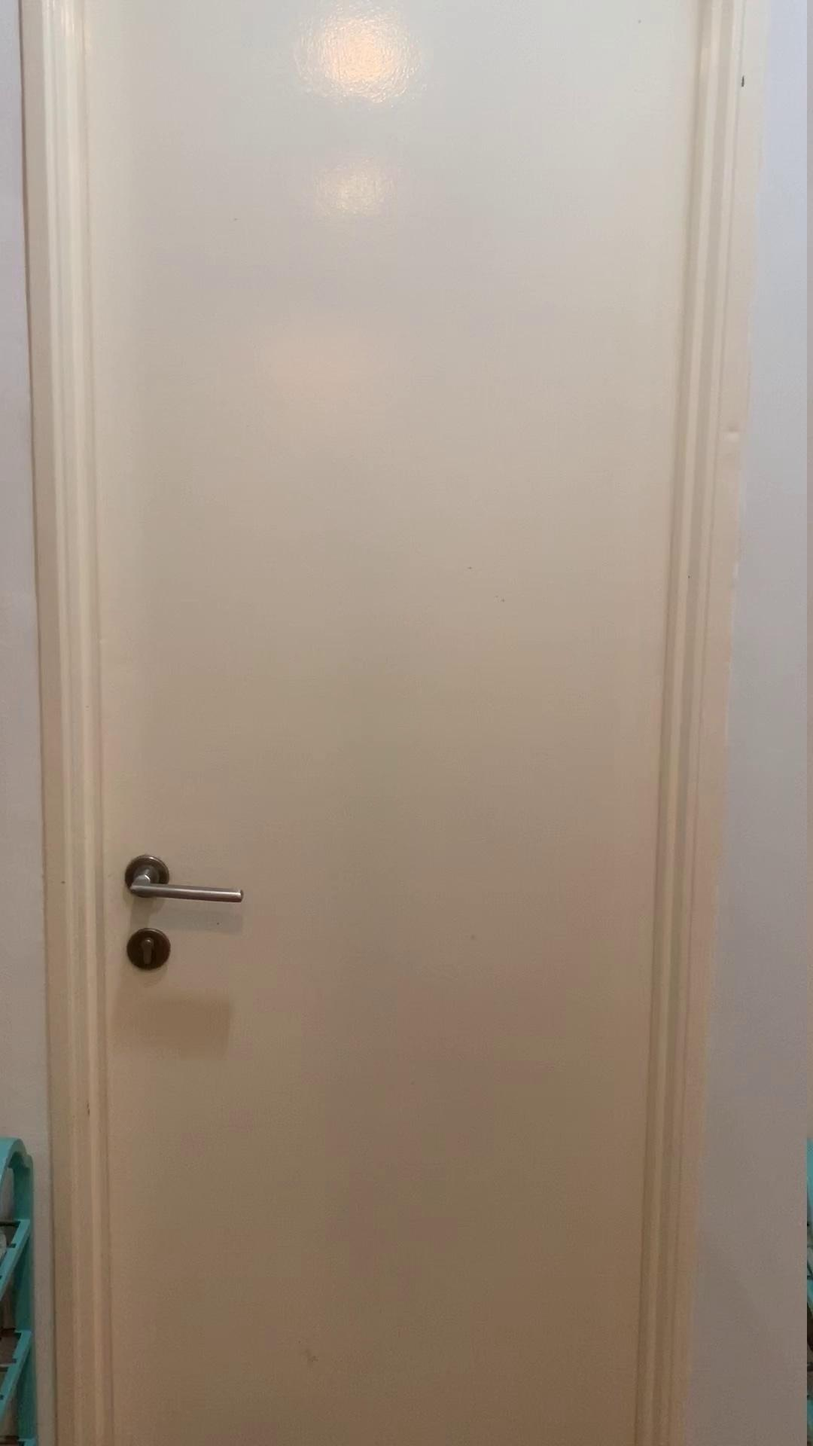door: (46, 0, 708, 1446)
